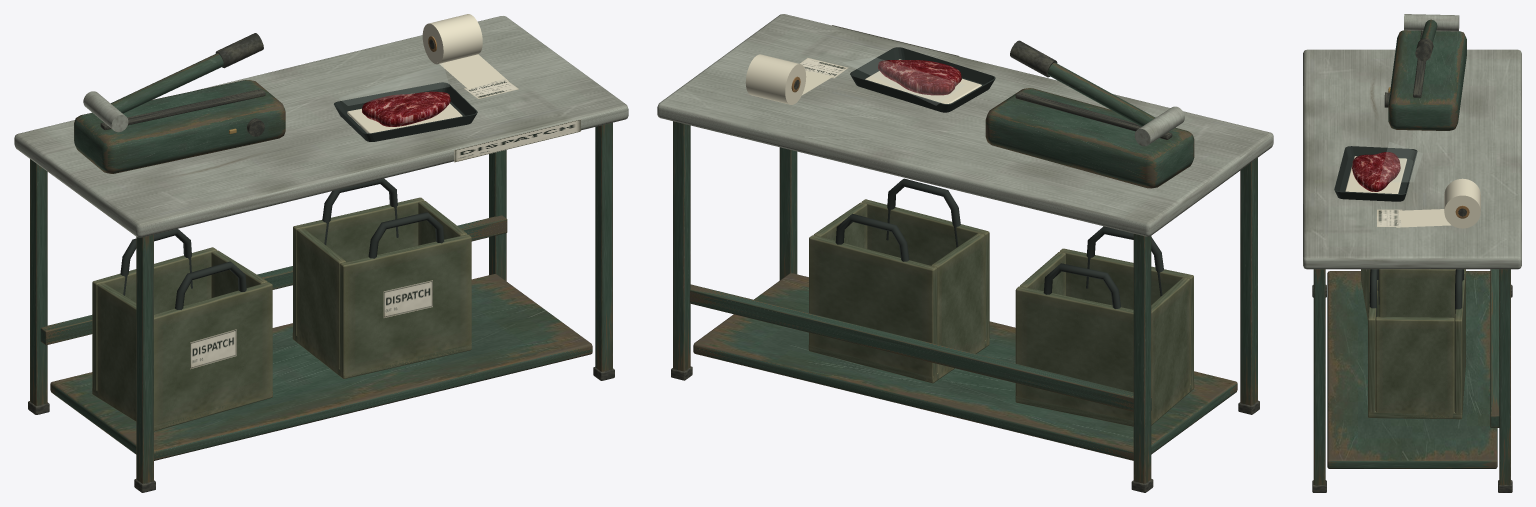
File: 02_Order_Packing_Bench.glb
The picture shows the model from 3 angles, left to right: view 1: azimuth 30°, elevation 25°; view 2: azimuth 150°, elevation 25°; view 3: azimuth 270°, elevation 25°; orthographic projection. The views are drawn at different scales.
Parts seen in each view (by area): view 1: Work surface, Reusable insulated despatch bag front/back, Packing bench bag shelf, Square post, Reusable insulated despatch bag ends, Impulse sealer cast housing, Webbing carry loop, Nested food tray.016, Lower brace, ORDER 014 | editable beef sample, Roll of shipping labels, Unsealed vacuum film · lifted corner (+10 smaller); view 2: Work surface, Reusable insulated despatch bag front/back, Packing bench bag shelf, Square post, Reusable insulated despatch bag ends, Impulse sealer cast housing, Lower brace, Webbing carry loop, Nested food tray.016, Roll of shipping labels, Unsealed vacuum film · lifted corner, ORDER 014 | editable beef sample (+8 smaller); view 3: Work surface, Packing bench bag shelf, Reusable insulated despatch bag ends, Impulse sealer cast housing, Square post, Reusable insulated despatch bag front/back, Nested food tray.016, Lower brace, ORDER 014 | editable beef sample, Roll of shipping labels, Unsealed vacuum film · lifted corner, Hinge pin (+9 smaller).
Part boxes in pixels (bbox=[...]): Work surface: bbox=[14, 16, 628, 237]; Reusable insulated despatch bag front/back: bbox=[92, 197, 471, 430]; Packing bench bag shelf: bbox=[50, 274, 592, 460]; Square post: bbox=[30, 122, 612, 483]; Reusable insulated despatch bag ends: bbox=[97, 200, 467, 420]; Impulse sealer cast housing: bbox=[74, 80, 285, 173]; Webbing carry loop: bbox=[120, 178, 444, 309]; Nested food tray.016: bbox=[334, 82, 477, 141]; Lower brace: bbox=[40, 215, 507, 345]; ORDER 014 | editable beef sample: bbox=[362, 91, 450, 126]; Roll of shipping labels: bbox=[422, 14, 482, 64]; Unsealed vacuum film · lifted corner: bbox=[339, 63, 449, 105]; Work surface: bbox=[657, 14, 1273, 236]; Reusable insulated despatch bag front/back: bbox=[809, 199, 1193, 420]; Packing bench bag shelf: bbox=[693, 273, 1237, 460]; Square post: bbox=[673, 121, 1257, 483]; Reusable insulated despatch bag ends: bbox=[814, 202, 1190, 424]; Impulse sealer cast housing: bbox=[985, 88, 1194, 188]; Lower brace: bbox=[690, 284, 1151, 411]; Webbing carry loop: bbox=[835, 178, 1163, 308]; Nested food tray.016: bbox=[850, 47, 995, 112]; Roll of shipping labels: bbox=[745, 54, 806, 104]; Unsealed vacuum film · lifted corner: bbox=[843, 58, 964, 104]; ORDER 014 | editable beef sample: bbox=[878, 60, 961, 95]; Work surface: bbox=[1303, 49, 1521, 269]; Packing bench bag shelf: bbox=[1327, 271, 1497, 468]; Reusable insulated despatch bag ends: bbox=[1375, 269, 1455, 418]; Impulse sealer cast housing: bbox=[1388, 30, 1466, 130]; Square post: bbox=[1313, 269, 1510, 485]; Reusable insulated despatch bag front/back: bbox=[1361, 269, 1465, 413]; Nested food tray.016: bbox=[1334, 146, 1417, 201]; Lower brace: bbox=[1490, 269, 1499, 427]; ORDER 014 | editable beef sample: bbox=[1352, 152, 1400, 191]; Roll of shipping labels: bbox=[1444, 178, 1480, 228]; Unsealed vacuum film · lifted corner: bbox=[1380, 142, 1422, 181]; Hinge pin: bbox=[1404, 14, 1459, 31].
Size of the model in its own units: 1.63 by 1.17 by 0.723.
14 materials, 9 textured.
